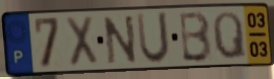7: (33, 17, 63, 71)
B: (178, 9, 214, 64)
N: (101, 13, 139, 66)
Q: (211, 10, 249, 61)
U: (134, 10, 171, 67)
X: (64, 14, 100, 69)
